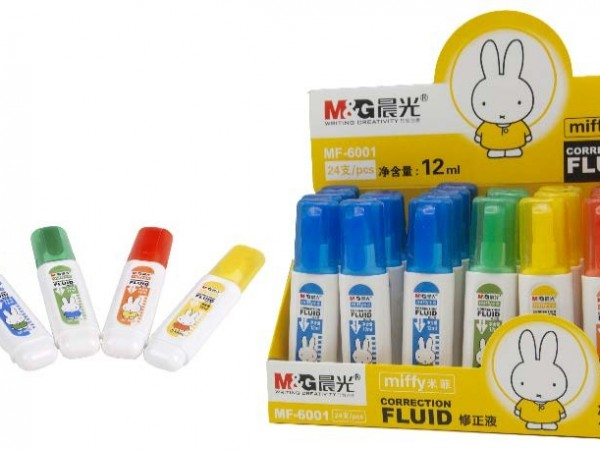Correction_fluid: (141, 239, 270, 375), (395, 194, 460, 370), (96, 222, 175, 362), (338, 195, 399, 370), (29, 222, 105, 362), (463, 197, 519, 372), (288, 192, 343, 363)
